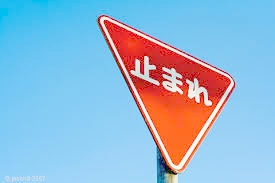Regulatory_sign_triangle: (96, 9, 233, 178)
